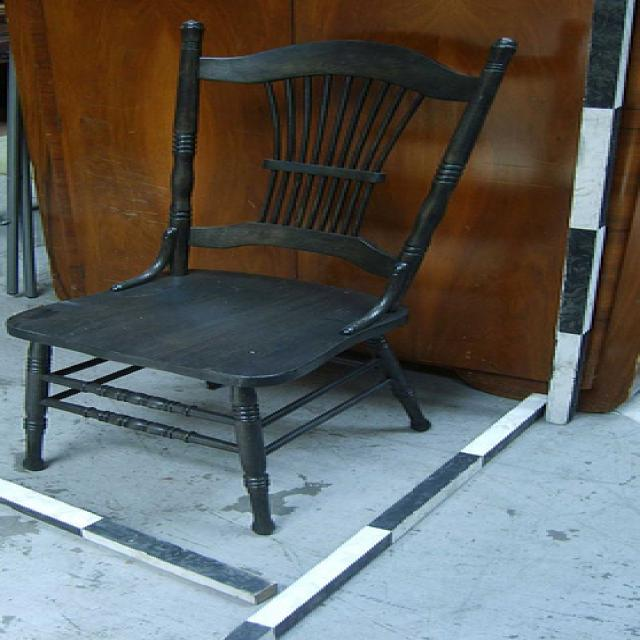chair: (2, 22, 517, 537)
